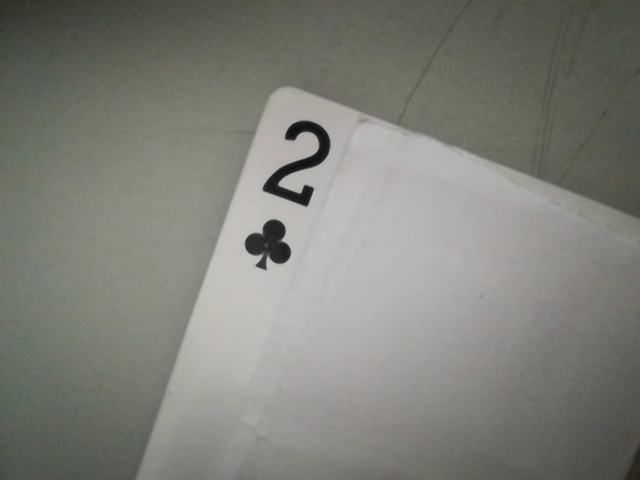mh 2: (238, 106, 345, 275)
